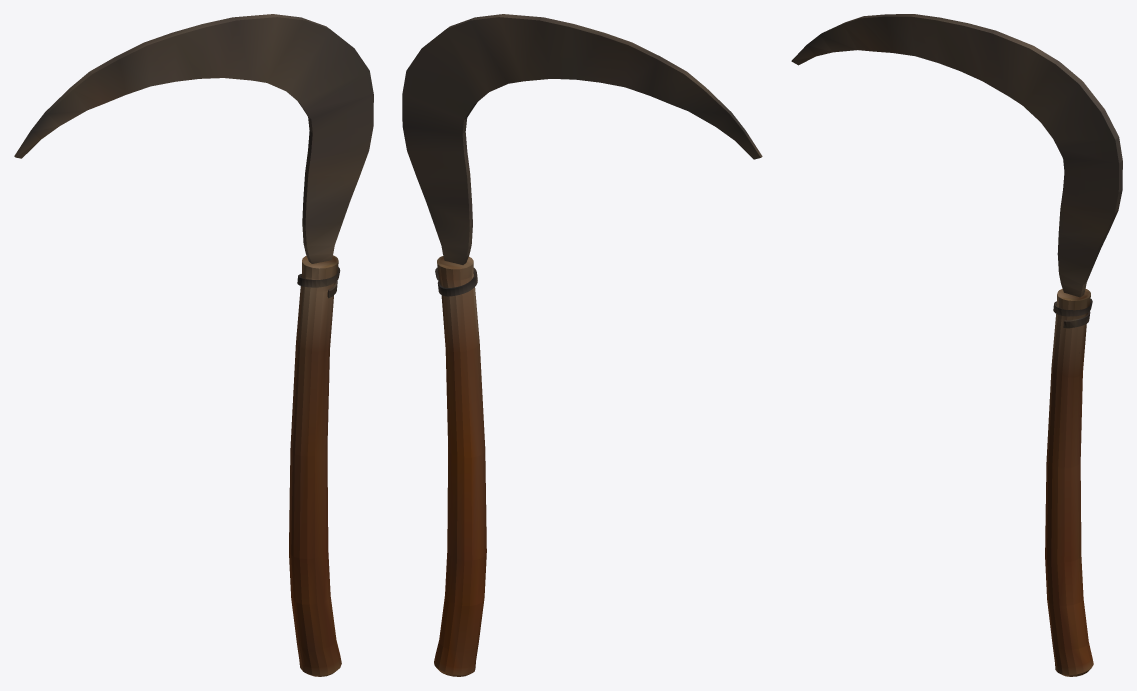
The model's file is sickle_63340bb8.glb.
3 views of the same model, side by side, from view 1: azimuth 30°, elevation 25°; view 2: azimuth 150°, elevation 25°; view 3: azimuth 330°, elevation 25° (orthographic). The views are drawn at different scales.
Visible parts, largest first — view 1: SM_Sickle_M_Scikle_0; view 2: SM_Sickle_M_Scikle_0; view 3: SM_Sickle_M_Scikle_0.
Part boxes in pixels (x1,y1,x2,y2): SM_Sickle_M_Scikle_0: [14, 14, 373, 676]; SM_Sickle_M_Scikle_0: [402, 14, 762, 676]; SM_Sickle_M_Scikle_0: [791, 14, 1122, 676].
Bounding box in the file's own units: 0.1934 × 0.3487 × 0.0196.
